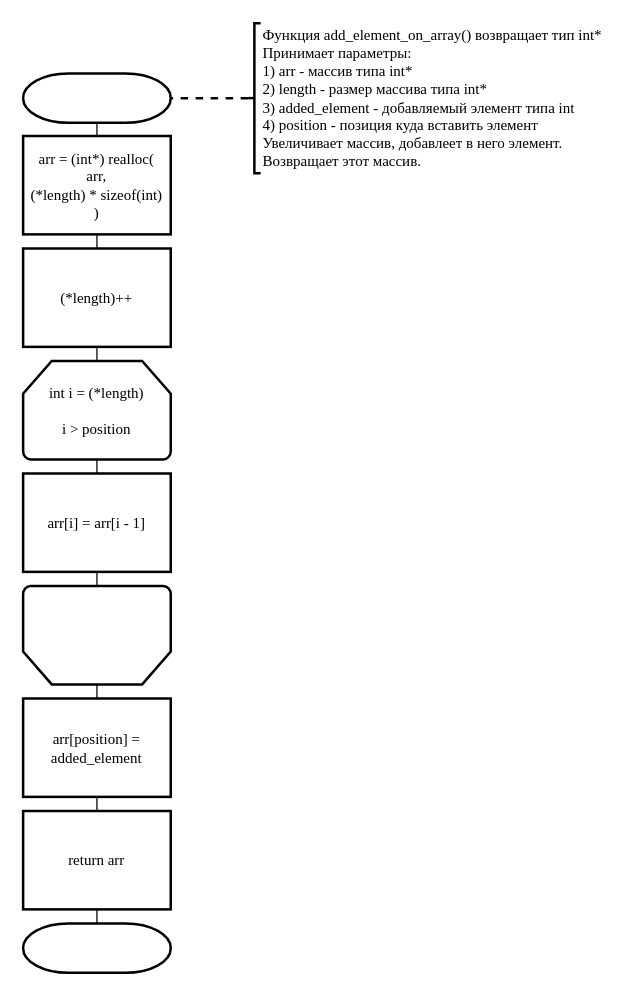
The diagram is 623 pixels wide and 995 high, and some of its shapes have lost their labels. The centre of each missing label's shape, as x and y in pixels:
"i++" belongs at point (96, 634).
"int* add_element _on_array()" belongs at point (96, 97).
"Конец" belongs at point (96, 947).
